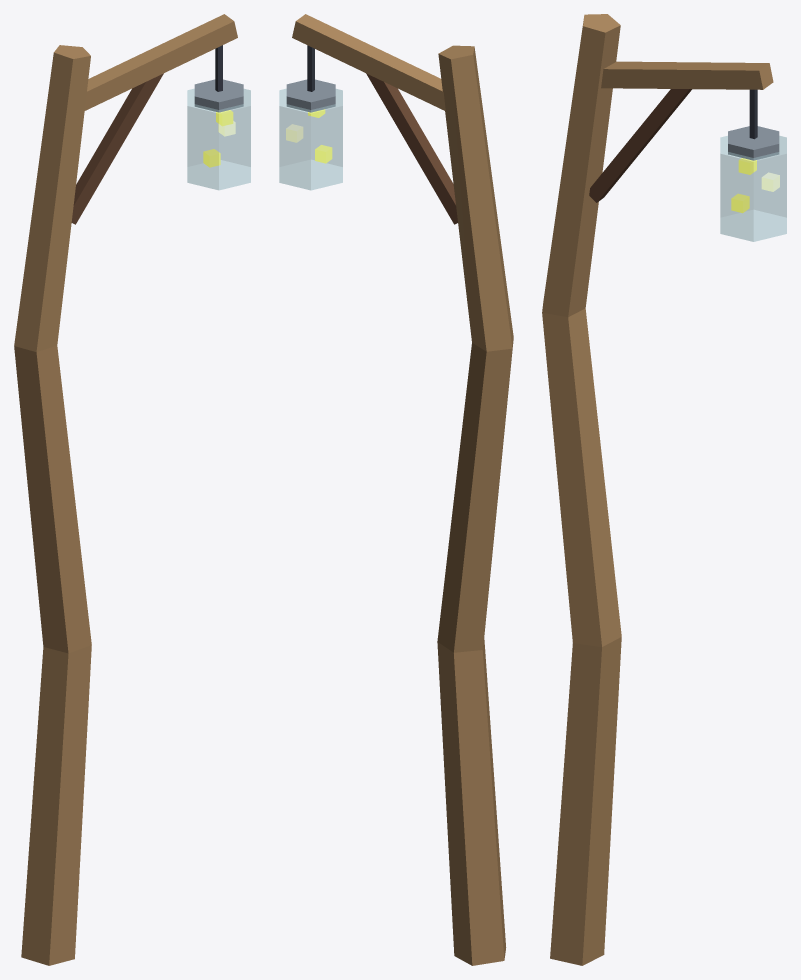
File: Prop_Lamp_Street.fbx
The picture shows the model from 3 angles, left to right: view 1: azimuth 30°, elevation 25°; view 2: azimuth 150°, elevation 25°; view 3: azimuth 330°, elevation 25°; orthographic projection. The views are drawn at different scales.
Parts seen in each view (by area): view 1: Prop_Lamp_Street_Body, Prop_Lamp_Street_Jar; view 2: Prop_Lamp_Street_Body, Prop_Lamp_Street_Jar; view 3: Prop_Lamp_Street_Body, Prop_Lamp_Street_Jar.
Part boxes in pixels (x1,y1,x2,y2): Prop_Lamp_Street_Body: (14,14,237,965); Prop_Lamp_Street_Jar: (187,79,250,190); Prop_Lamp_Street_Body: (292,14,513,965); Prop_Lamp_Street_Jar: (279,79,342,190); Prop_Lamp_Street_Body: (542,14,773,965); Prop_Lamp_Street_Jar: (720,126,786,241).
Bounding box in the file's own units: 0.9596 × 3.52 × 0.2252.
